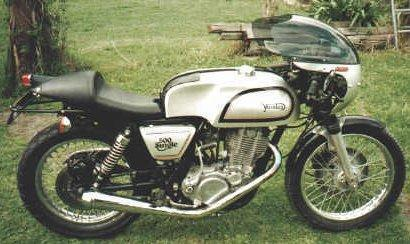motorcycle: (6, 10, 409, 243)
